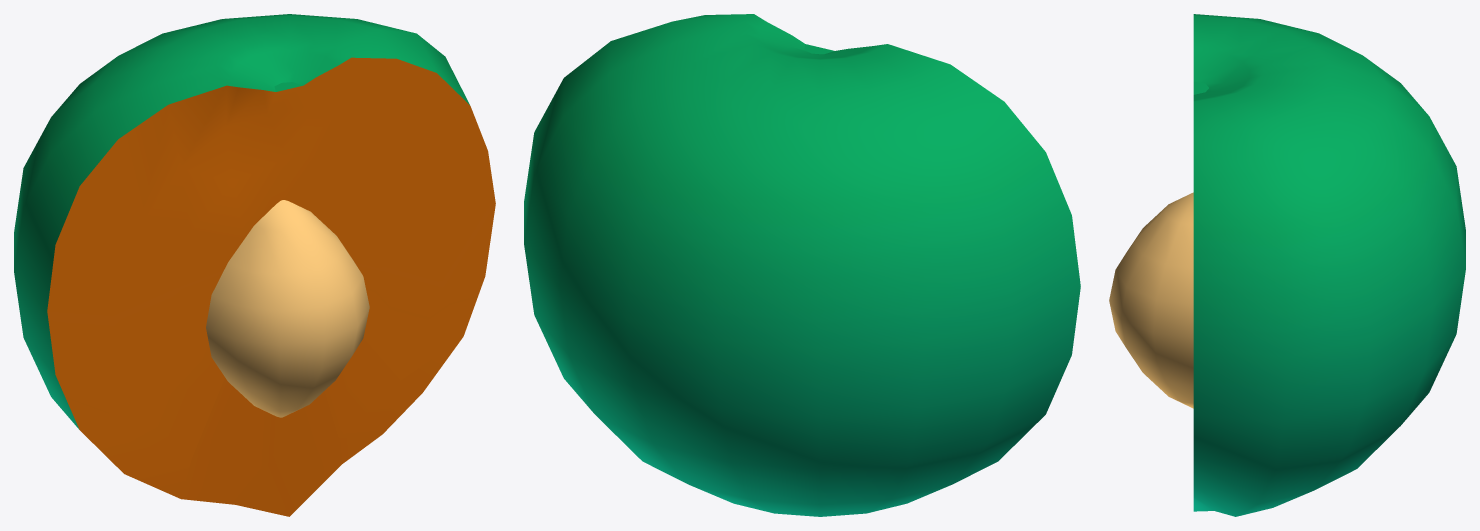
The model's file is Peach_half_02.fbx.
3 views of the same model, side by side, from view 1: azimuth 30°, elevation 25°; view 2: azimuth 150°, elevation 25°; view 3: azimuth 270°, elevation 25° (orthographic). The views are drawn at different scales.
Parts seen in each view (by area): view 1: Peach_half_02; view 2: Peach_half_02; view 3: Peach_half_02.
Part boxes in pixels (x1=…): Peach_half_02: x1=14, y1=14, x2=495, y2=516; Peach_half_02: x1=524, y1=14, x2=1080, y2=516; Peach_half_02: x1=1109, y1=14, x2=1465, y2=516.
Bounding box in the file's own units: 121 × 110 × 80.59.
